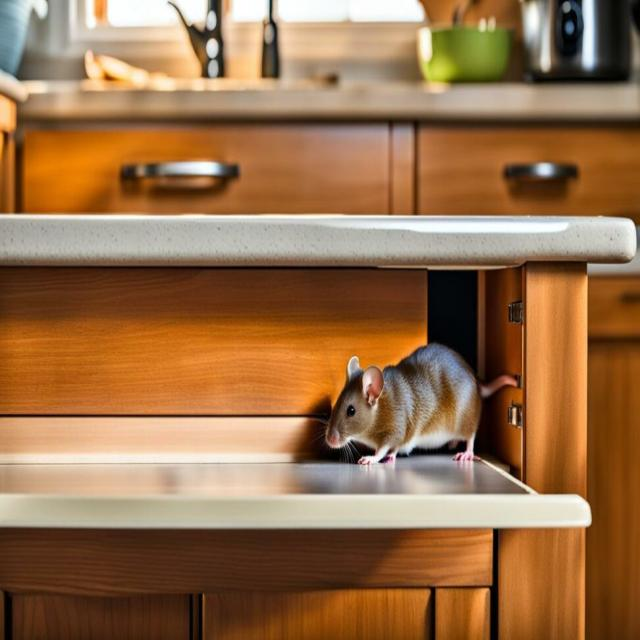rat: (311, 326, 529, 479)
